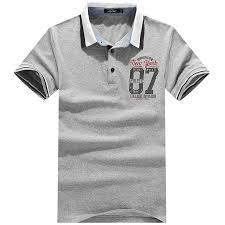S_polo shirt: (15, 6, 208, 225)
